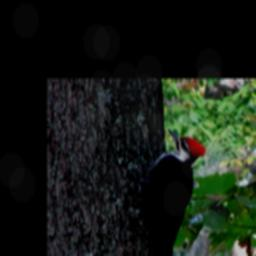Woodpecker: (128, 128, 209, 256)
